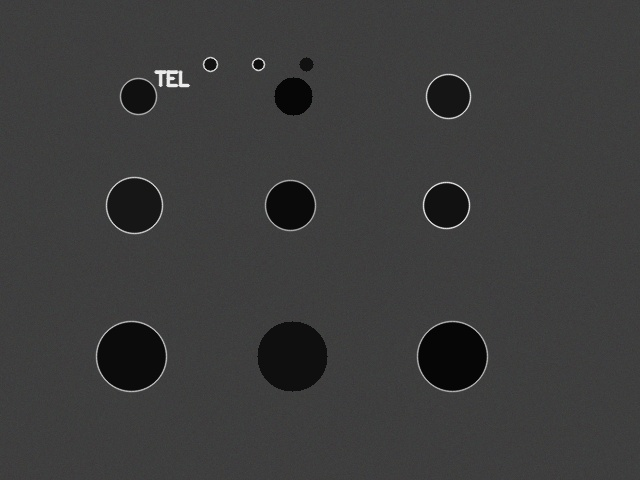hole: (96, 321, 166, 391), (257, 321, 327, 391), (417, 321, 487, 391), (106, 177, 162, 233), (265, 180, 315, 230), (423, 182, 469, 228), (426, 74, 470, 118), (274, 77, 312, 115), (120, 78, 156, 114), (203, 57, 217, 71), (299, 57, 313, 71), (252, 58, 264, 70)
